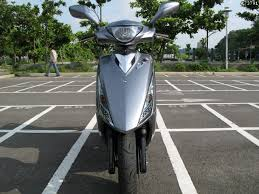motorcycle: (65, 1, 181, 193)
